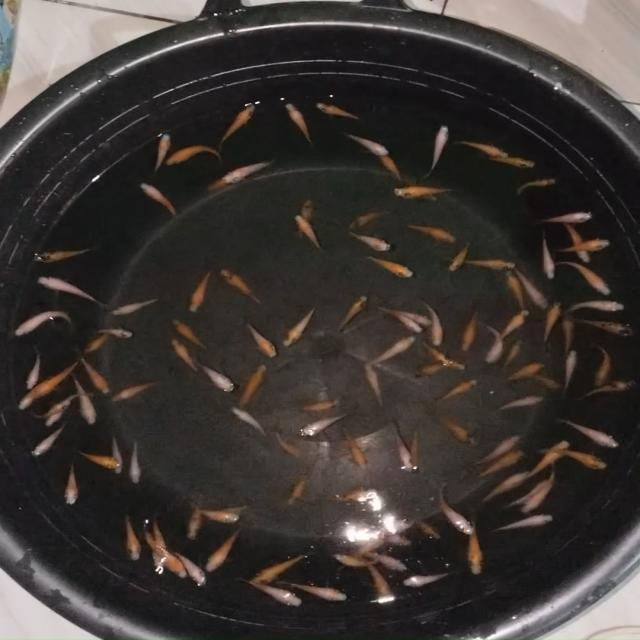nila: (138, 530, 188, 583), (34, 272, 106, 308), (252, 547, 315, 585), (561, 412, 622, 451), (8, 306, 79, 339), (528, 434, 576, 482), (560, 255, 612, 298), (469, 433, 527, 471), (502, 474, 554, 516), (28, 238, 108, 265), (36, 354, 91, 392), (40, 386, 85, 432), (520, 465, 564, 511), (508, 262, 551, 308), (535, 444, 610, 470), (278, 578, 352, 604), (202, 529, 244, 574), (482, 466, 534, 502), (340, 531, 384, 572), (240, 578, 300, 608), (466, 452, 526, 482), (364, 550, 396, 606), (71, 375, 105, 427), (358, 542, 413, 574), (218, 100, 256, 146), (160, 142, 226, 168), (137, 182, 179, 222), (286, 100, 321, 148), (566, 294, 628, 321), (187, 501, 249, 528), (438, 486, 472, 535), (106, 291, 167, 318), (284, 303, 318, 351), (562, 220, 594, 270), (166, 550, 208, 588), (368, 331, 416, 364), (426, 378, 478, 408), (29, 418, 70, 456), (492, 513, 554, 538), (185, 264, 214, 316), (580, 312, 632, 341), (454, 305, 486, 352), (218, 270, 259, 306), (500, 358, 546, 390), (408, 220, 462, 247), (382, 300, 434, 328), (206, 495, 264, 520), (76, 354, 108, 399), (436, 415, 479, 448), (168, 334, 200, 378), (552, 234, 616, 256), (465, 518, 488, 579), (450, 251, 520, 271), (169, 317, 209, 352), (293, 415, 343, 443), (504, 268, 532, 318), (236, 366, 270, 407), (494, 392, 552, 416), (346, 203, 397, 230), (578, 374, 633, 399), (246, 320, 280, 360), (452, 134, 508, 158), (529, 208, 596, 228), (228, 406, 269, 438), (120, 512, 146, 562), (426, 123, 450, 177), (346, 130, 392, 158), (292, 211, 324, 251), (560, 334, 582, 392), (184, 490, 207, 545), (199, 362, 238, 394), (389, 418, 412, 472), (478, 150, 540, 170), (362, 361, 388, 408), (512, 171, 559, 197), (219, 161, 272, 184), (388, 304, 426, 336), (444, 233, 472, 276), (341, 287, 369, 330), (366, 252, 414, 277), (478, 322, 501, 374), (342, 428, 369, 472), (283, 468, 314, 506), (388, 181, 457, 198), (554, 303, 577, 354), (316, 98, 364, 122), (497, 306, 535, 336), (591, 336, 612, 389), (148, 132, 174, 174), (113, 380, 158, 404), (540, 298, 564, 342), (126, 439, 148, 487), (290, 396, 342, 416), (412, 505, 439, 543), (329, 550, 384, 568), (12, 382, 45, 412), (424, 298, 442, 348), (274, 430, 304, 460), (62, 463, 82, 508), (150, 517, 165, 577), (81, 447, 118, 471), (348, 232, 392, 252), (526, 371, 564, 394), (297, 194, 315, 242), (34, 398, 71, 421), (500, 334, 524, 369), (106, 435, 126, 477), (411, 360, 456, 378), (325, 489, 370, 507), (406, 430, 422, 480), (542, 233, 557, 286), (380, 148, 402, 184), (82, 329, 110, 356), (402, 572, 449, 588), (379, 526, 410, 549), (426, 340, 451, 368), (90, 323, 130, 339), (23, 354, 40, 388), (206, 175, 236, 192), (443, 356, 466, 371)
